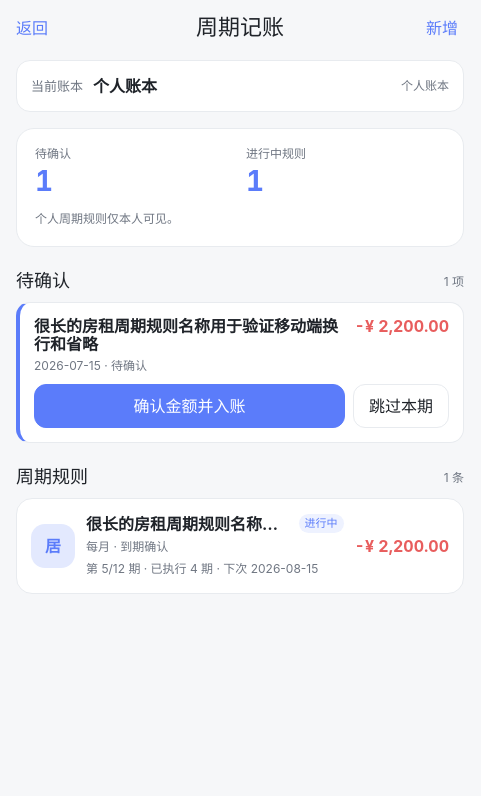
Test case: recurring views › renders pending items and confirms once with a stable idempotency key
Step 1. Click the button with class "confirm" → (190, 406), box [34, 384, 345, 428]
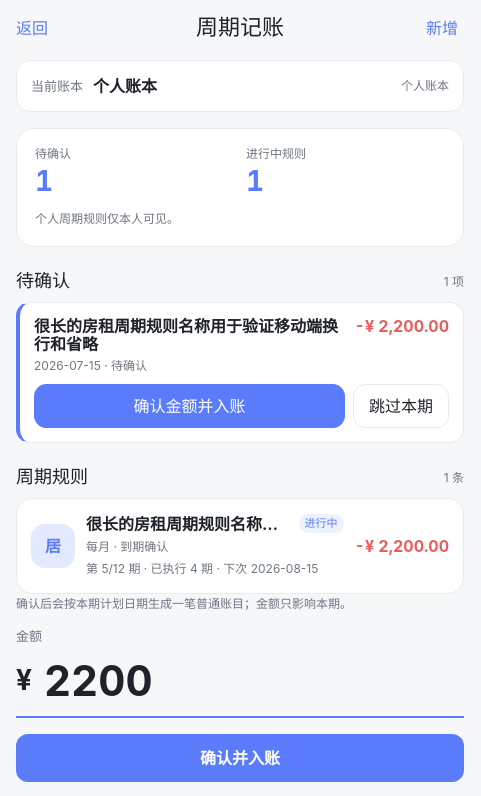
Step 2. Submit the form with class "confirm-form", box [16, 594, 464, 782]
Step 3. Submit the form with class "confirm-form", box [16, 594, 464, 782]
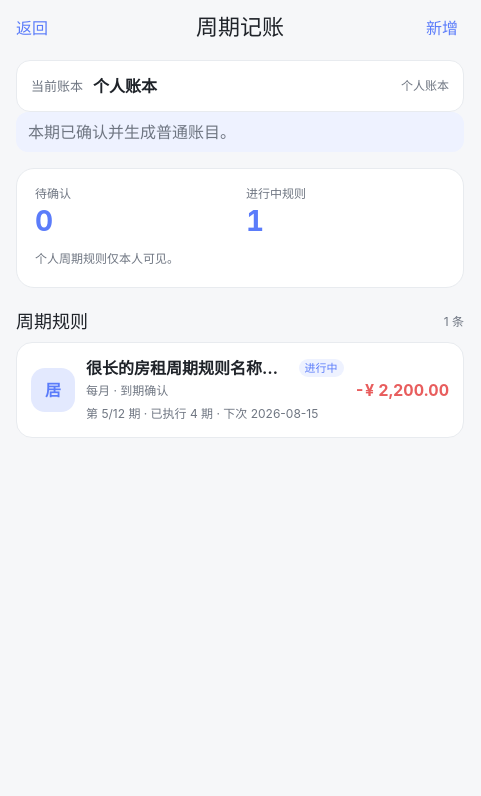
Expected: the text "本期已确认并生成普通账目" is shown, [28, 122, 236, 142]
